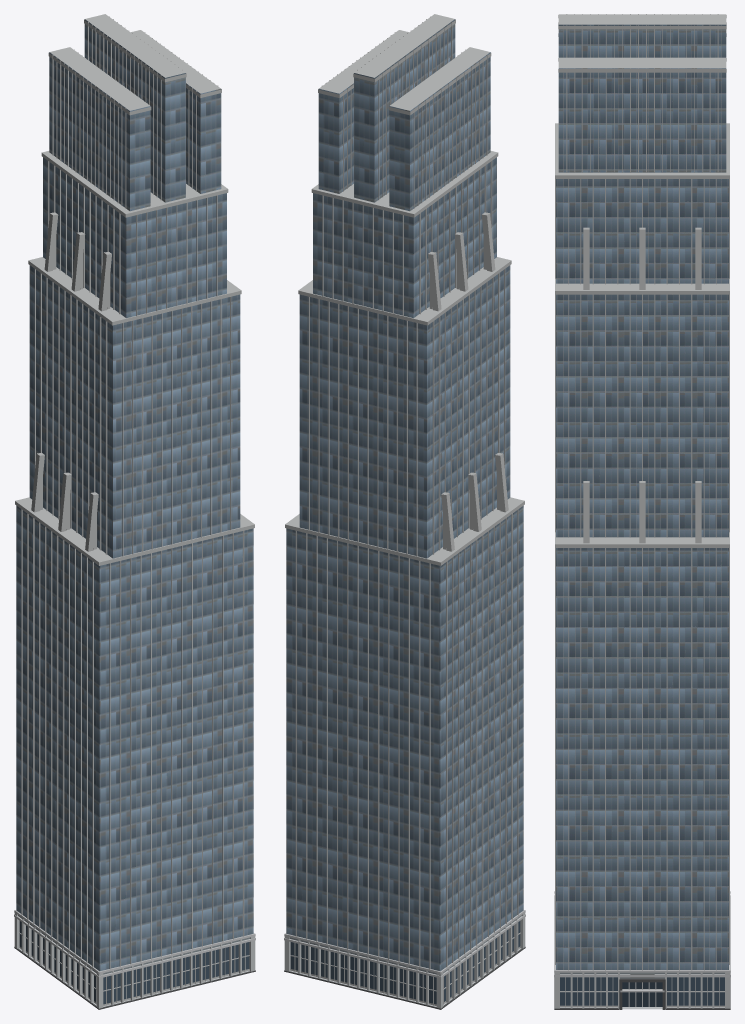
Rendered from park_425.glb.
3 views of the same model, side by side, from view 1: azimuth 30°, elevation 25°; view 2: azimuth 150°, elevation 25°; view 3: azimuth 270°, elevation 25° (orthographic). The views are drawn at different scales.
Visible parts, largest first — view 1: park_425; view 2: park_425; view 3: park_425.
Boxes of the visible parts, x1=… form: park_425: x1=14, y1=14, x2=255, y2=1009; park_425: x1=284, y1=14, x2=525, y2=1009; park_425: x1=554, y1=14, x2=730, y2=1009.
Bounding box in the file's own units: 47.53 × 262 × 44.14.
2 materials, 2 textured.
